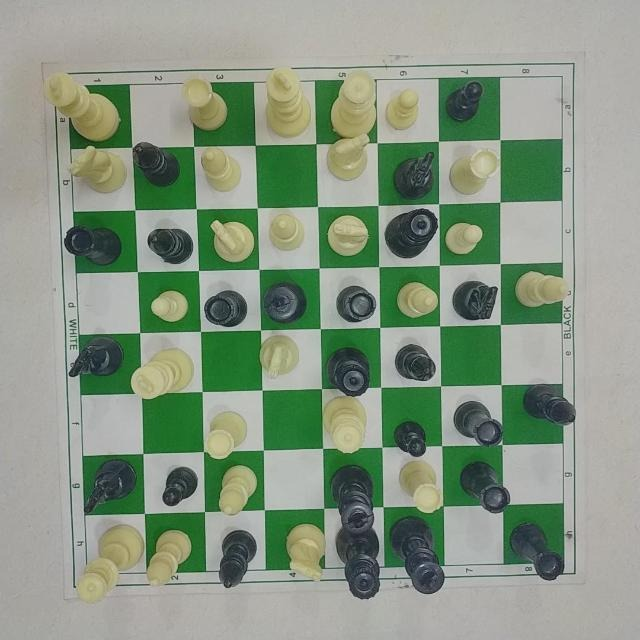black-bishop: (518, 376, 579, 428), (215, 527, 262, 591), (133, 140, 185, 194), (392, 337, 442, 389), (142, 223, 194, 268)
black-king: (390, 515, 452, 593), (332, 463, 380, 535), (263, 278, 309, 326)
black-knight: (82, 455, 140, 513), (452, 274, 502, 330), (70, 334, 126, 384), (396, 151, 440, 199)
black-pawn: (442, 77, 492, 129), (386, 412, 436, 460), (160, 465, 202, 508)
black-queen: (336, 529, 384, 601), (320, 343, 376, 399), (383, 207, 441, 260)
black-rook: (508, 519, 565, 583), (451, 396, 508, 454), (458, 458, 516, 513), (61, 221, 126, 270), (330, 281, 387, 325), (204, 282, 254, 330)
white-bishop: (145, 526, 201, 586), (513, 262, 574, 312), (194, 143, 249, 194), (218, 462, 260, 520), (268, 207, 316, 255), (395, 279, 443, 319)
white-king: (42, 71, 124, 140), (260, 60, 315, 140), (127, 344, 197, 400)
white-knight: (281, 518, 332, 582), (62, 145, 128, 194), (205, 213, 261, 265), (325, 211, 371, 261), (258, 333, 304, 381), (325, 137, 373, 181)
white-pawn: (147, 284, 192, 325), (448, 215, 486, 261), (386, 88, 422, 134)
white-queen: (75, 523, 146, 603), (329, 69, 381, 137), (323, 396, 373, 456)
white-rook: (397, 458, 449, 520), (179, 74, 231, 134), (204, 405, 248, 463), (451, 148, 501, 196)
